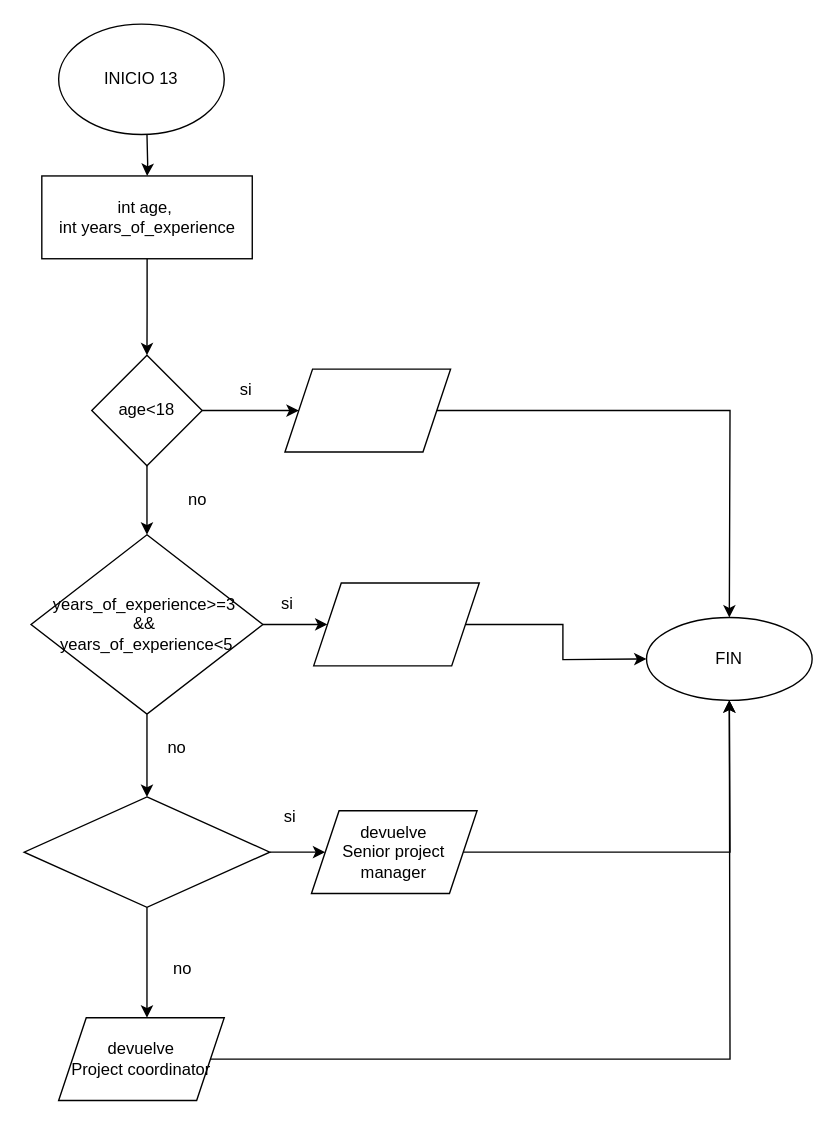
Some shapes in this 836 by 1125 pixel diagram are drawn without their labels. Here are the shapes that lost their labels. From the top down, the box of each, then its label:
(284, 368, 451, 452): devuelve Not eligible
(312, 582, 479, 666): devuelve Project manager
(23, 796, 270, 907): years_of_experience>=5
